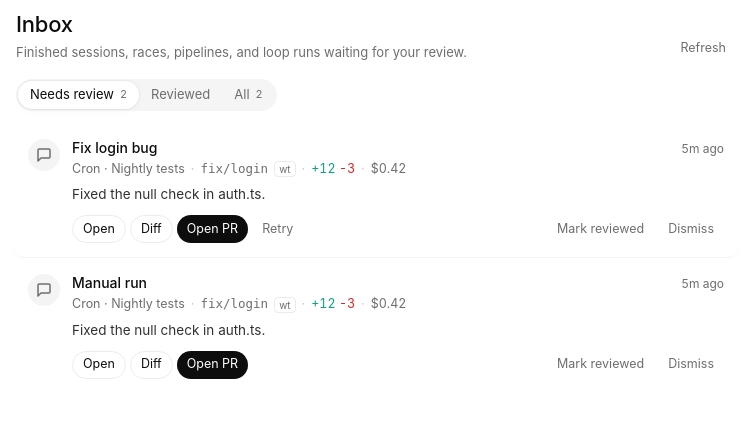
Test: InboxPage › retries cron-spawned sessions and hides Retry otherwise
Expected: the button "Manual run" is shown, left=72, top=272, right=147, bottom=293
Click the button "Retry" at coordinates (278, 229), box left=252, top=215, right=303, bottom=243
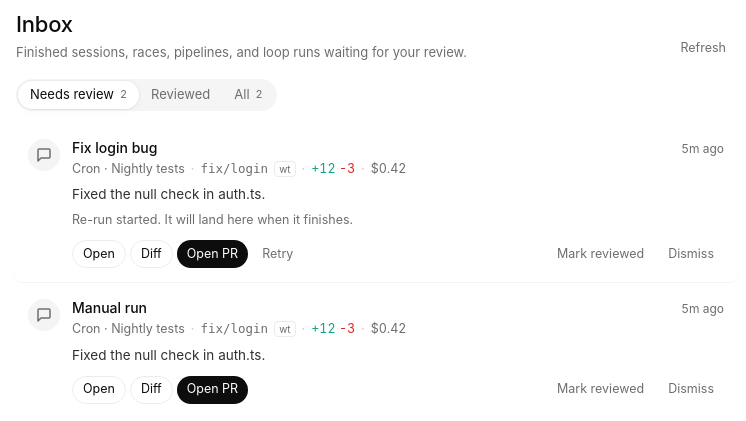
Now the text "Re-run started. It will land here when it finishes." is shown, box left=72, top=212, right=353, bottom=227
